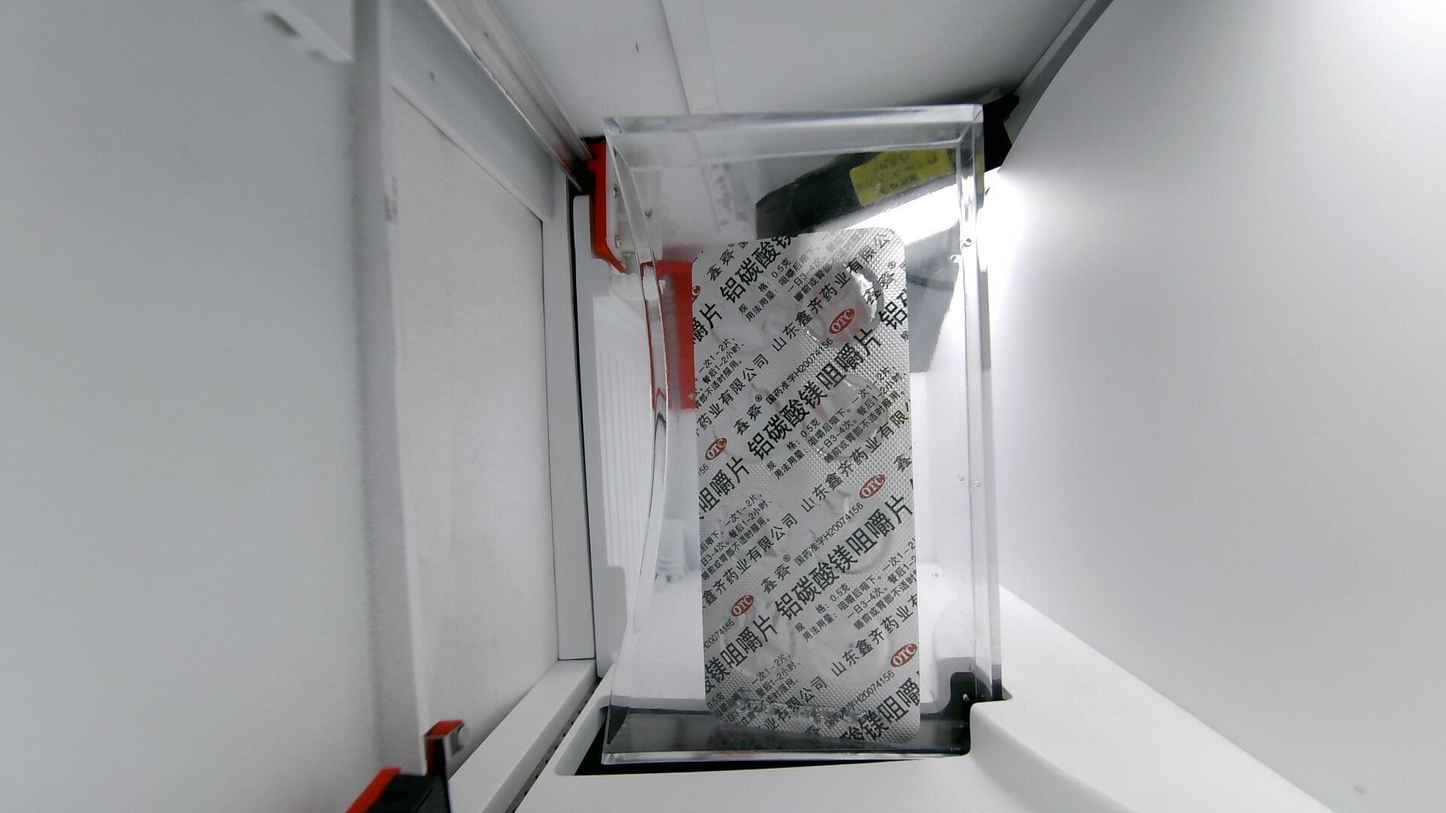Pill Back: (704, 376, 796, 465), (806, 368, 889, 461), (715, 595, 801, 682), (709, 271, 792, 354), (810, 492, 891, 577), (808, 604, 896, 681), (717, 479, 798, 561), (801, 265, 885, 343)
